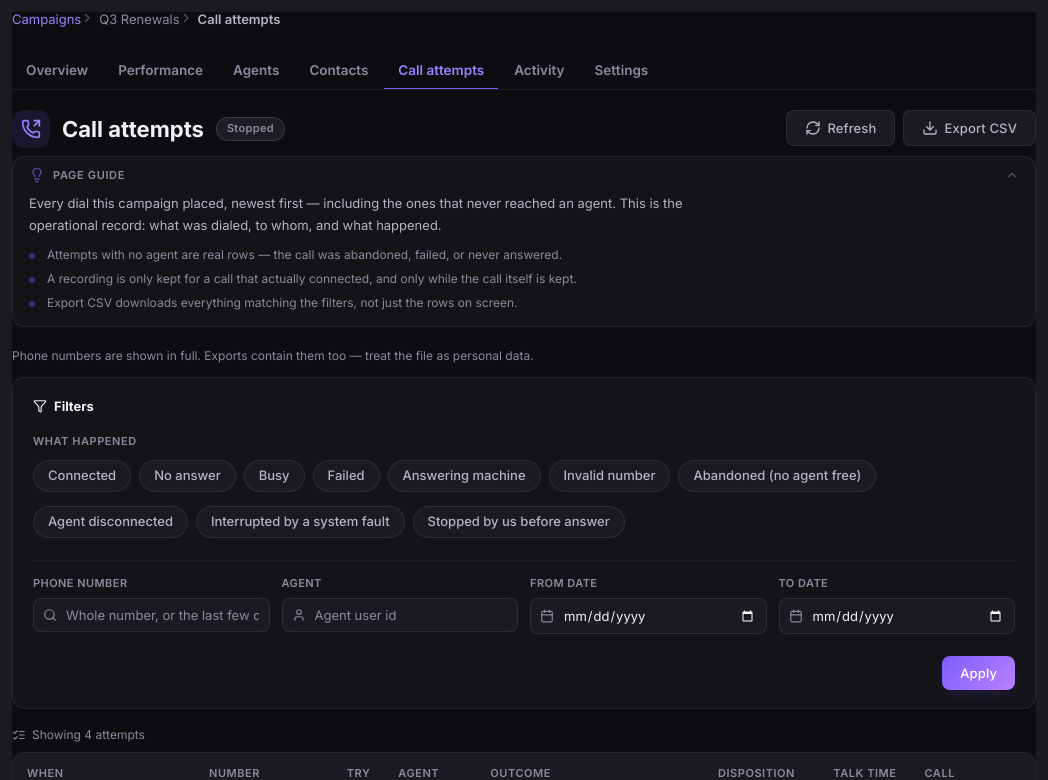
it: filters › refuses an inverted date range before sending it
The width and height of the screenshot is (1048, 780).
Type "2026-08-10" into the date field labelled "From date" at x=648, y=616, box [530,598,766,634]
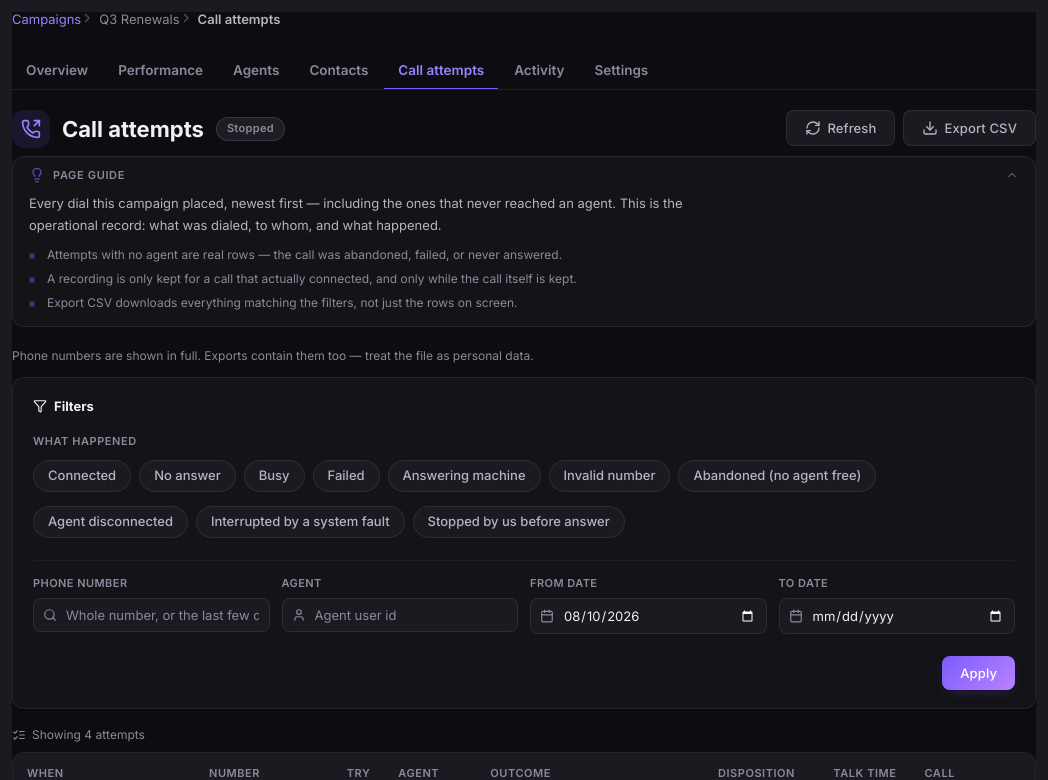
Type "2026-08-01" into the date field labelled "To date" at x=897, y=616, box [778,598,1015,634]
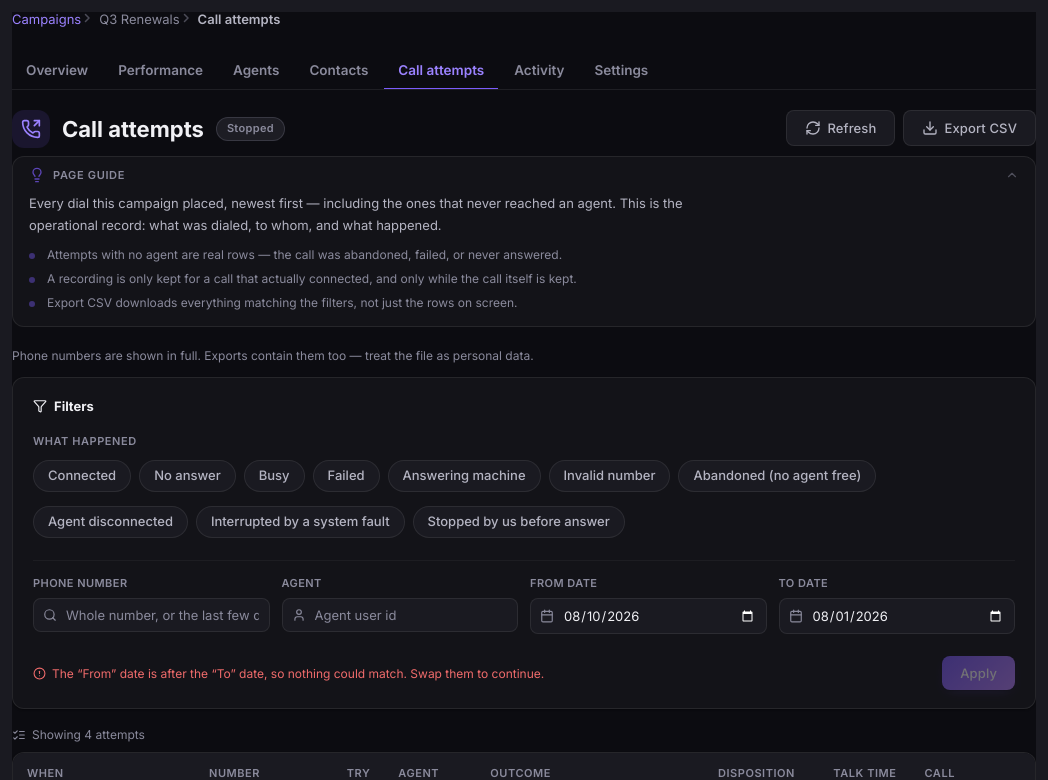
Expected: the message with test id "attempts-inverted-range" is shown, [33,664,544,683]
Expected: the button "Apply" is disabled, [942,656,1015,690]
